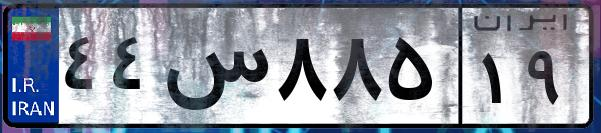1: (475, 38, 525, 113)
4: (57, 26, 110, 100), (110, 28, 158, 98)
5: (385, 28, 445, 110)
8: (270, 28, 330, 110), (330, 28, 385, 110)
9: (525, 38, 570, 115)
س: (158, 20, 270, 120)
